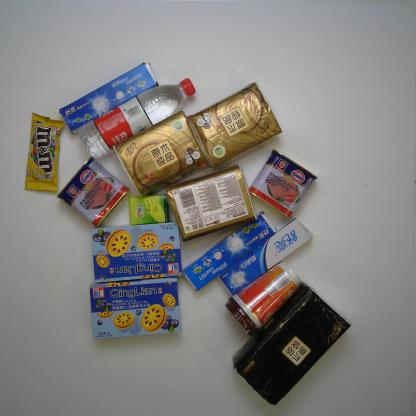Canned Food: (54, 156, 130, 227), (246, 147, 318, 218)
Chocolate: (24, 112, 65, 193)
Dessert: (89, 276, 182, 340), (90, 222, 183, 284)
Drink: (77, 77, 197, 159)
Instant Drink: (224, 261, 304, 339)
Personal Hygiene: (183, 211, 277, 292), (218, 218, 313, 298), (58, 61, 159, 135)
Tissue: (232, 281, 352, 407), (113, 110, 210, 198), (187, 81, 282, 168), (165, 163, 258, 243), (129, 194, 170, 226)
